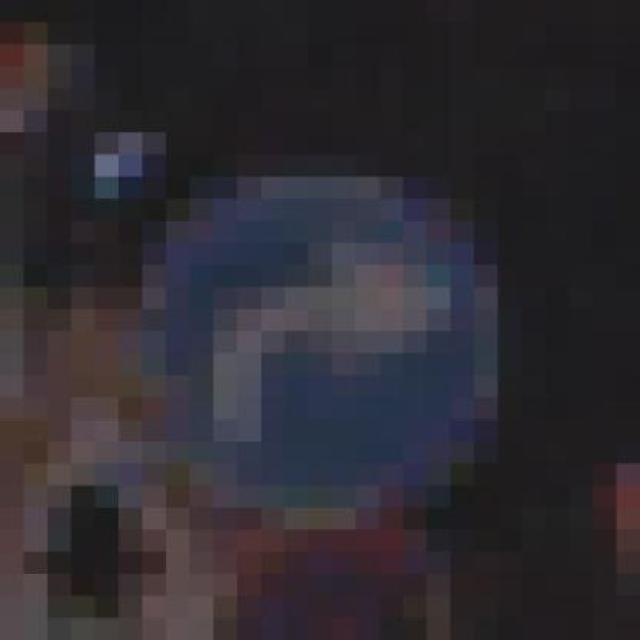Turn right ahead: (94, 132, 546, 530)
